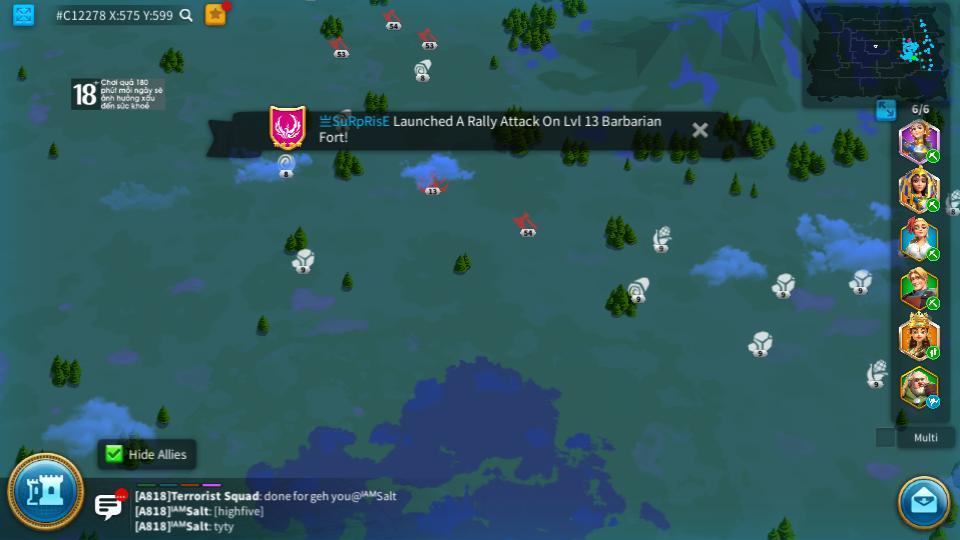march_idle: (925, 396, 942, 408)
march_marching: (925, 198, 941, 213), (925, 150, 942, 162), (925, 297, 941, 309), (925, 250, 942, 261), (926, 347, 941, 359)
